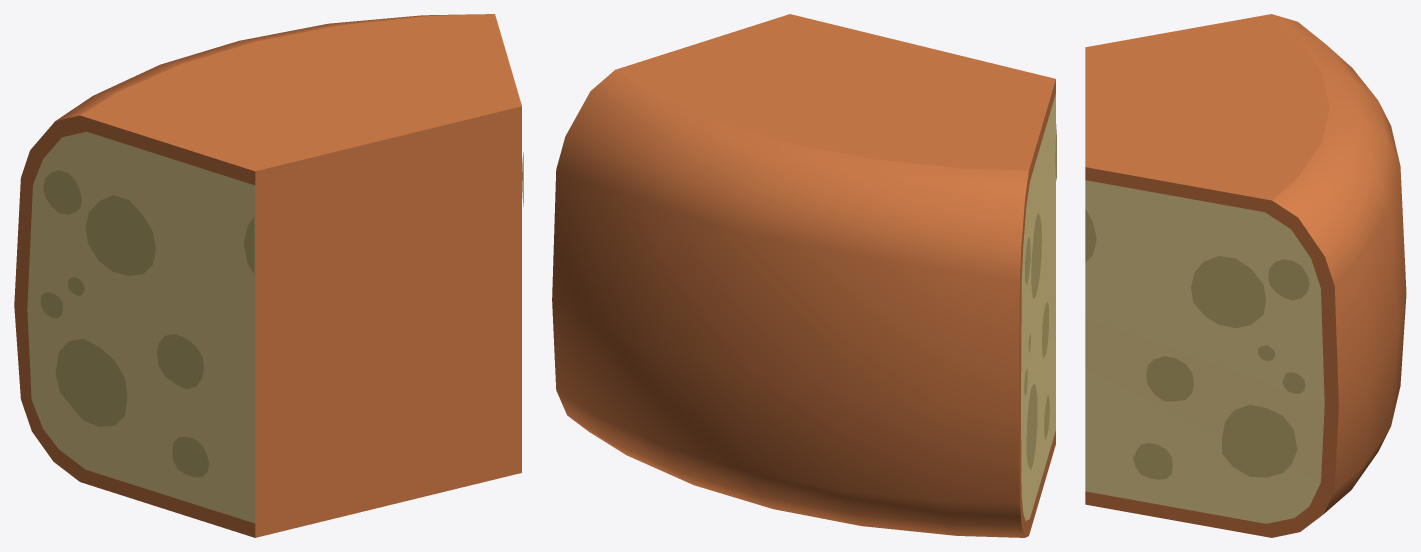
File: cheese_left.fbx
3 views of the same model, side by side, from view 1: azimuth 30°, elevation 25°; view 2: azimuth 150°, elevation 25°; view 3: azimuth 270°, elevation 25° (orthographic). The views are drawn at different scales.
Parts seen in each view (by area): view 1: Cheese.001; view 2: Cheese.001; view 3: Cheese.001.
Boxes of the visible parts, left/top/right/bottom form: Cheese.001: left=14, top=14, right=523, bottom=537; Cheese.001: left=552, top=14, right=1056, bottom=537; Cheese.001: left=1085, top=14, right=1406, bottom=537.
Size of the model in its own units: 30.17 by 22.49 by 19.39.
